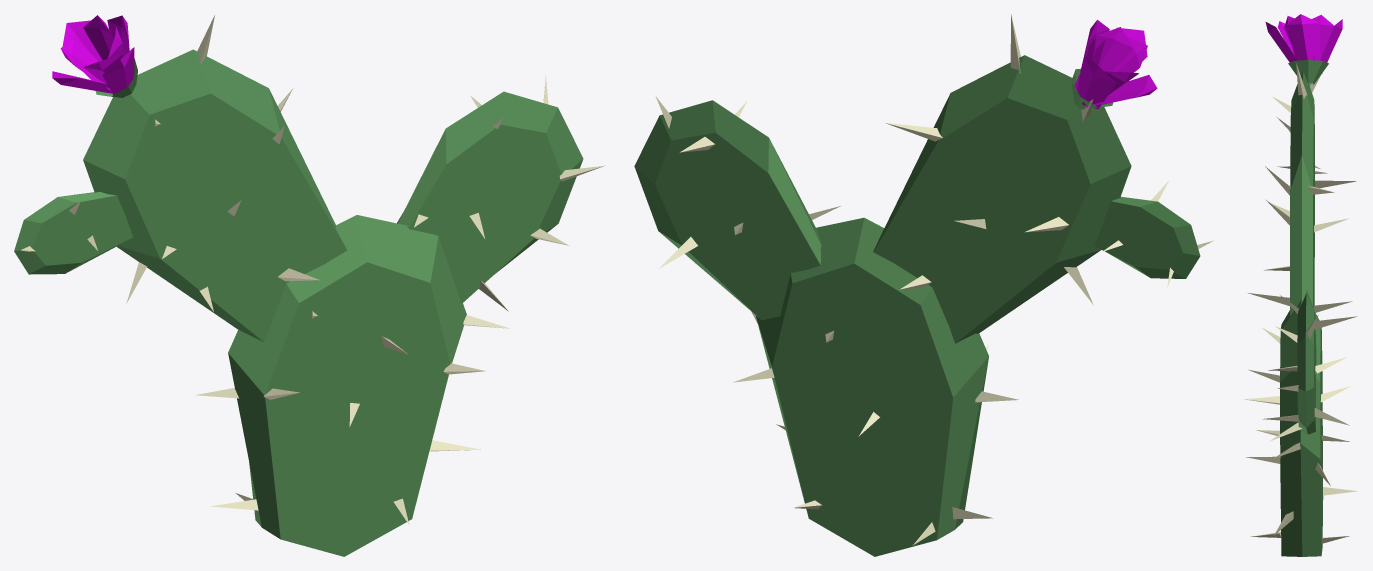
Rendered from Cactus_Flower_001.fbx.
3 views of the same model, side by side, from view 1: azimuth 30°, elevation 25°; view 2: azimuth 150°, elevation 25°; view 3: azimuth 270°, elevation 25° (orthographic). The views are drawn at different scales.
Visible parts, largest first — view 1: Cactus_Flower_001; view 2: Cactus_Flower_001; view 3: Cactus_Flower_001.
Boxes of the visible parts, left/top/right/bottom form: Cactus_Flower_001: left=14, top=15, right=604, bottom=556; Cactus_Flower_001: left=634, top=14, right=1213, bottom=556; Cactus_Flower_001: left=1244, top=14, right=1357, bottom=556.
Size of the model in its own units: 1.91 by 1.85 by 0.4252.
